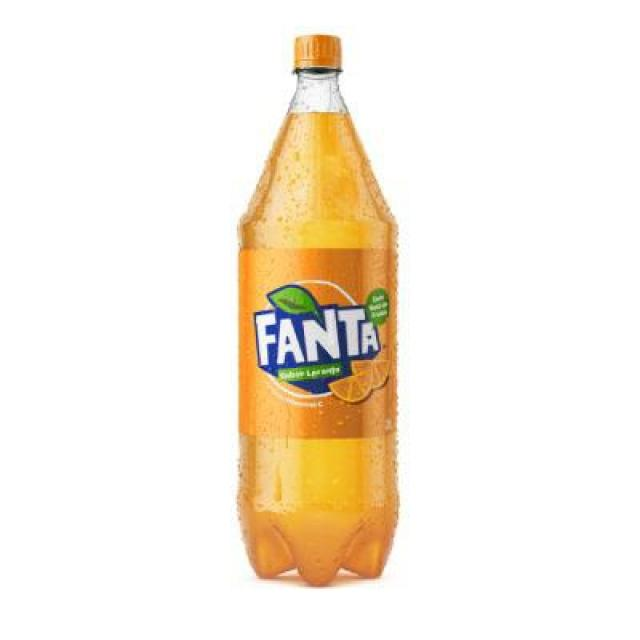bottle: (239, 36, 396, 584)
